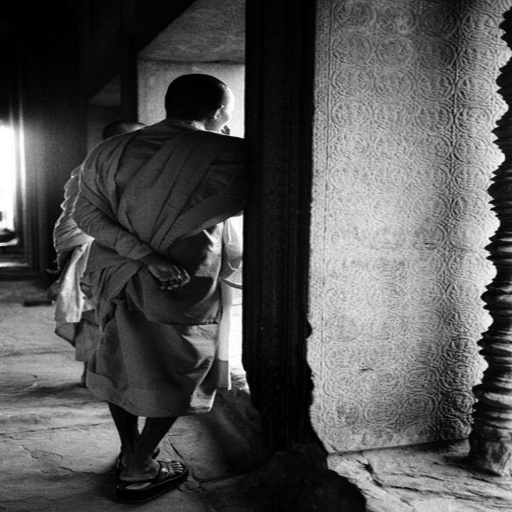hand: (141, 256, 196, 290)
